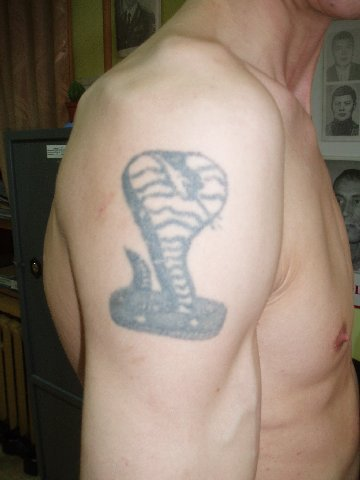tatu7_zmeya: (110, 144, 233, 347)
